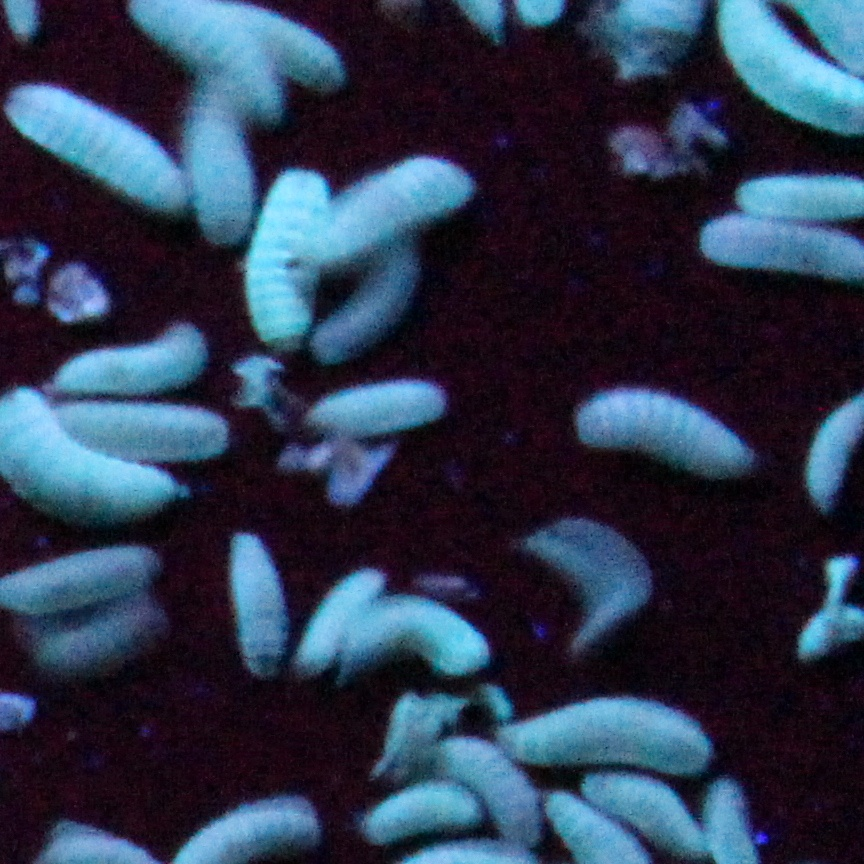larve: (304, 165, 471, 257), (247, 168, 329, 349), (581, 404, 747, 485), (512, 708, 704, 775), (50, 318, 207, 395), (173, 67, 245, 229), (30, 596, 165, 680), (345, 598, 494, 672), (437, 737, 539, 840), (299, 563, 386, 681), (696, 218, 860, 275), (220, 531, 284, 673), (47, 414, 234, 459), (596, 777, 699, 852), (314, 380, 443, 439), (353, 781, 486, 832)
